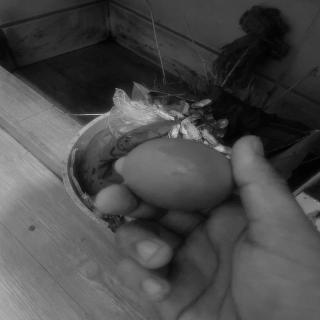Telur: (123, 133, 232, 213)
